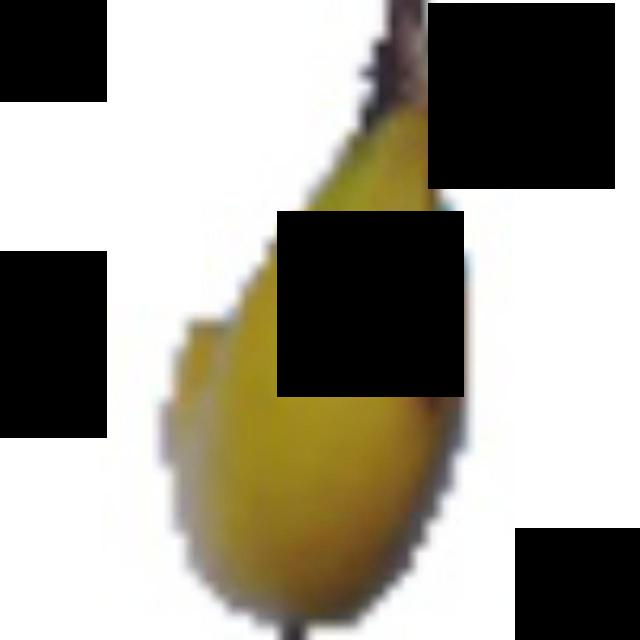banana: (160, 0, 468, 634)
